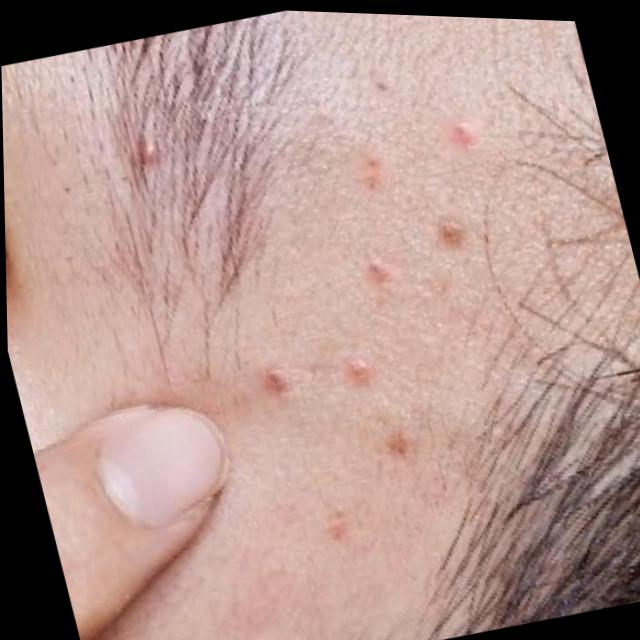Acne: (190, 88, 574, 620)
